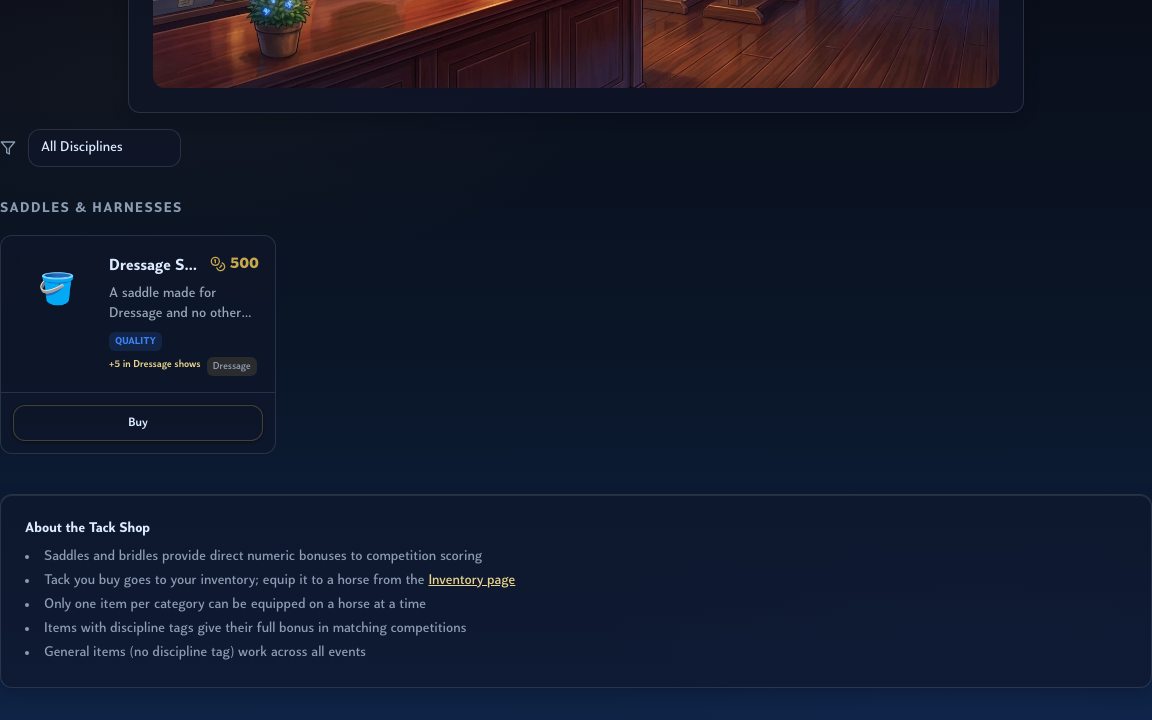
TackShopPage (Equoria-dslww) › buys with the item id alone and says the tack is in the inventory
(page scrolled)
Click the button "Buy" at (138, 423), box [13,405,263,441]
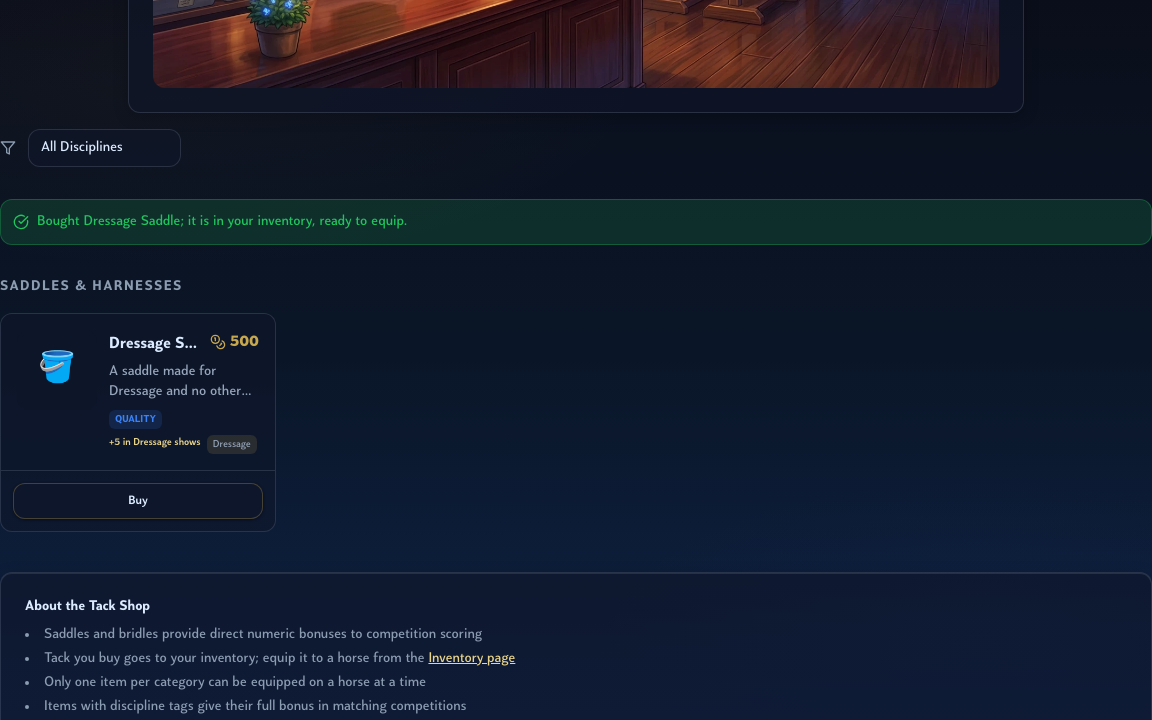
Result: the text "Bought Dressage Saddle; it is in your inventory" is shown at [37,214,407,229]
